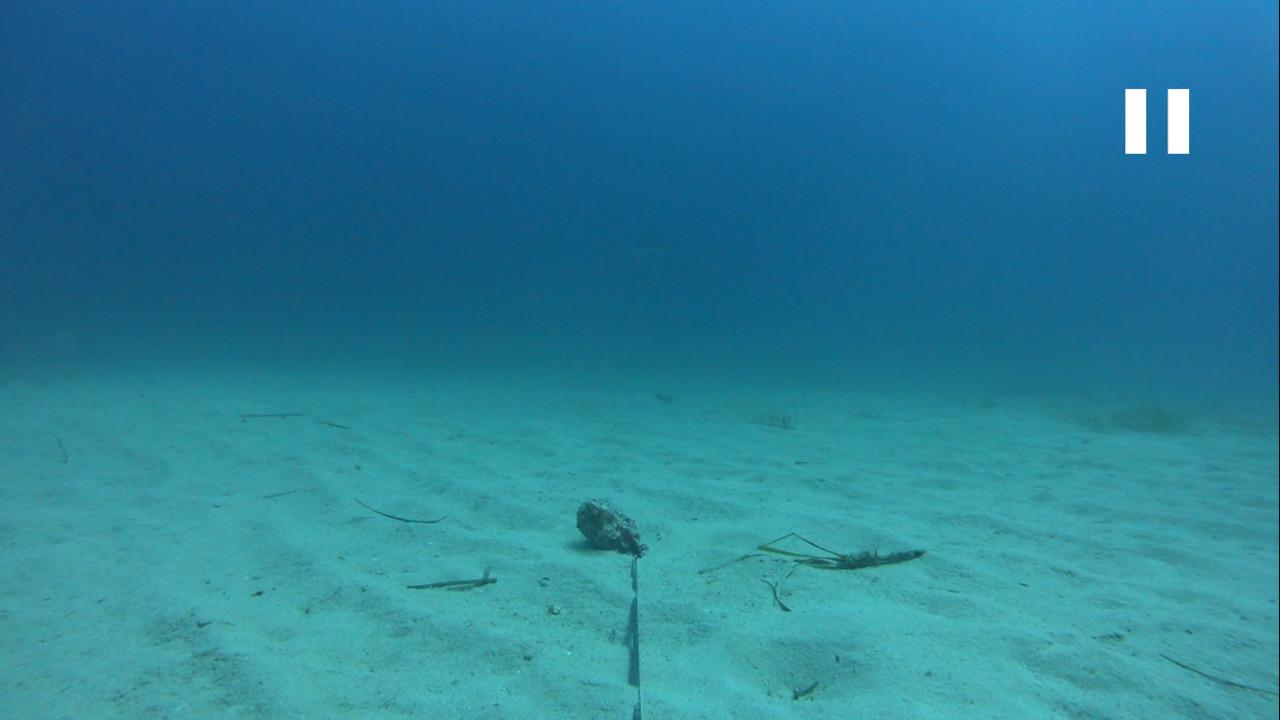myliobatis: (591, 228, 711, 270)
